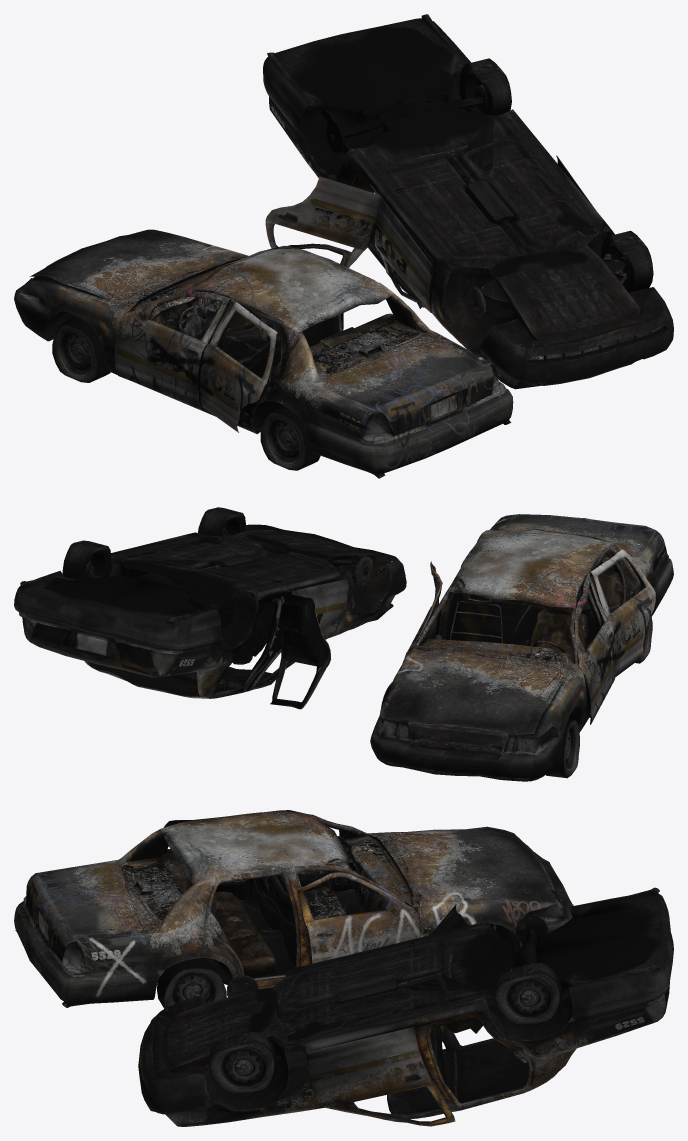
The model's file is free_burned_police_cars.glb.
The picture shows the model from 3 angles, top to bottom: view 1: azimuth 30°, elevation 25°; view 2: azimuth 150°, elevation 25°; view 3: azimuth 270°, elevation 25°; orthographic projection. The views are drawn at different scales.
Visible parts, largest first — view 1: Object005_Material #99_0, Object004_Material #98_0; view 2: Object004_Material #98_0, Object005_Material #99_0; view 3: Object005_Material #99_0, Object004_Material #98_0.
Boxes of the visible parts, <box> form: Object005_Material #99_0: <box>263,14,673,389</box>; Object004_Material #98_0: <box>14,229,513,478</box>; Object004_Material #98_0: <box>370,514,673,781</box>; Object005_Material #99_0: <box>14,507,406,709</box>; Object005_Material #99_0: <box>138,887,673,1126</box>; Object004_Material #98_0: <box>14,810,573,1008</box>.
Bounding box in the file's own units: 601 × 197 × 690.
2 materials, 2 textured.
